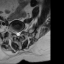CCS_stenosis: (17, 29, 19, 38)
LFS_stenosis: (20, 27, 22, 33)
LLS_normal: (19, 29, 21, 37)
RFS_normal: (13, 29, 15, 36)
RLS_normal: (15, 30, 17, 37)
